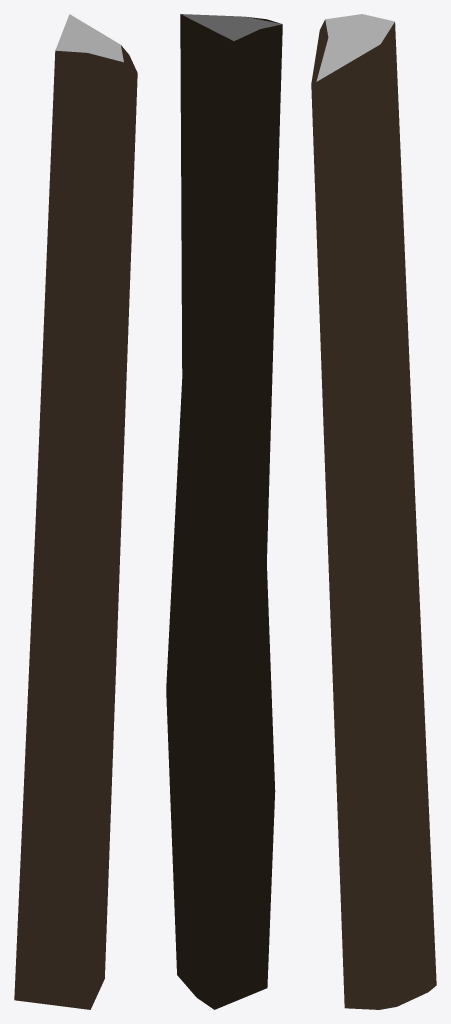
File: fence_snowy_03.dae
3 views of the same model, side by side, from view 1: azimuth 90°, elevation 25°; view 2: azimuth 150°, elevation 25°; view 3: azimuth 270°, elevation 25° (orthographic).
Visible parts, largest first — view 1: fence_snowy_03-0; view 2: fence_snowy_03-0; view 3: fence_snowy_03-0.
Boxes of the visible parts, x1=… form: fence_snowy_03-0: x1=14, y1=14, x2=137, y2=1009; fence_snowy_03-0: x1=166, y1=14, x2=282, y2=1009; fence_snowy_03-0: x1=311, y1=14, x2=436, y2=1009.
Bounding box in the file's own units: 0.2713 × 3.05 × 0.3552.
